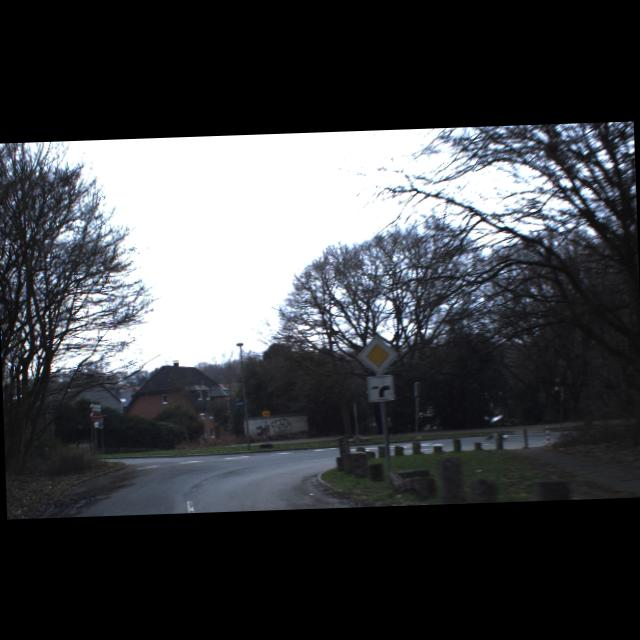other: (356, 334, 397, 376)
